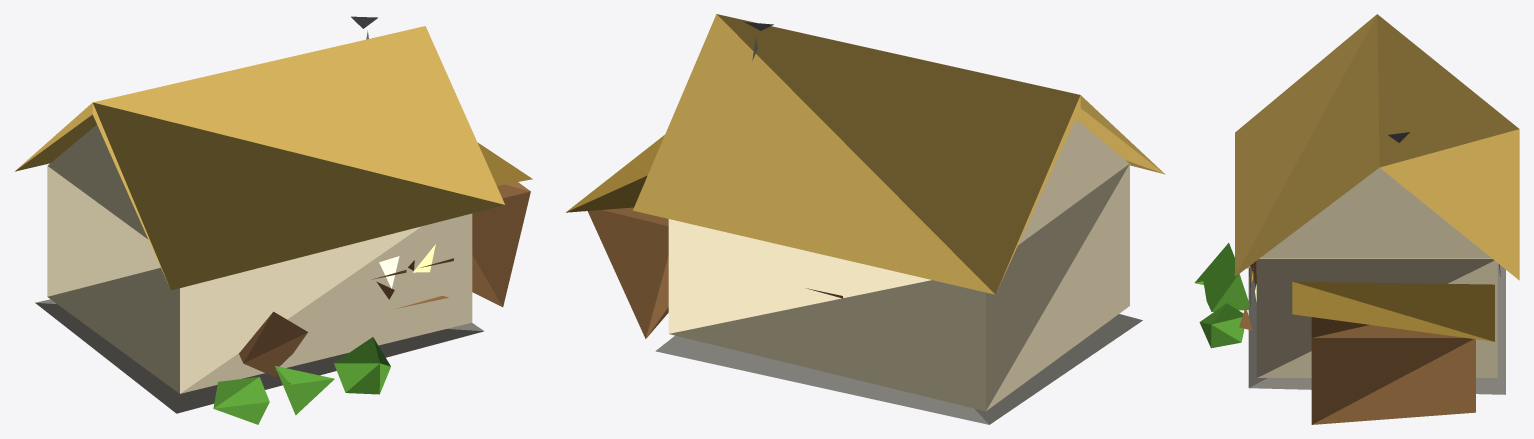
File: hobbit_cottage_3_lod2.glb
The picture shows the model from 3 angles, left to right: view 1: azimuth 30°, elevation 25°; view 2: azimuth 150°, elevation 25°; view 3: azimuth 270°, elevation 25°; orthographic projection. The views are drawn at different scales.
Visible parts, largest first — view 1: hobbit_cottage_3_lod2; view 2: hobbit_cottage_3_lod2; view 3: hobbit_cottage_3_lod2.
Boxes of the visible parts, <box> form: hobbit_cottage_3_lod2: <box>15,16,532,424</box>; hobbit_cottage_3_lod2: <box>566,14,1165,424</box>; hobbit_cottage_3_lod2: <box>1195,14,1519,424</box>.
Size of the model in its own units: 7.85 by 5.1 by 5.94.
